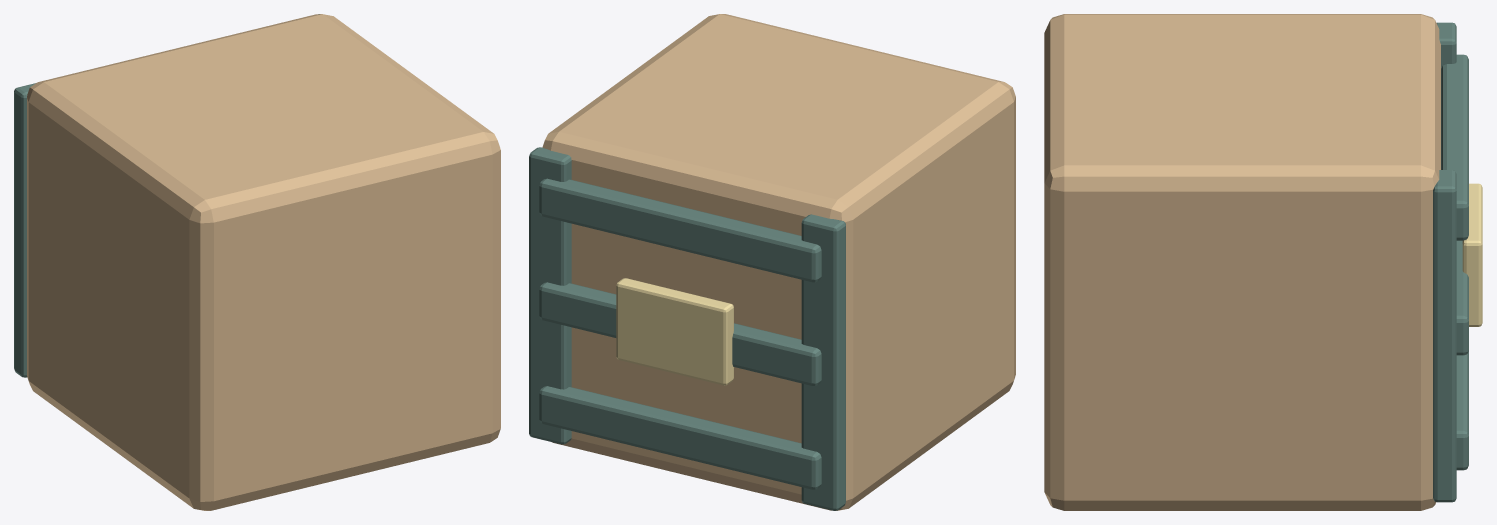
Rendered from feed_crate.glb.
3 renders of one model, left to right at view 1: azimuth 30°, elevation 25°; view 2: azimuth 150°, elevation 25°; view 3: azimuth 270°, elevation 25°, orthographic. The views are drawn at different scales.
Visible parts, largest first — view 1: crate, brace_-0.22; view 2: crate, front_slat_2, front_slat_0, brace_-0.22, feed_label, brace_0.22, front_slat_1; view 3: crate, brace_0.22, front_slat_2, feed_label, front_slat_0, front_slat_1, brace_-0.22.
Part boxes in pixels (<box>): crate: <box>27,14,500,510</box>; brace_-0.22: <box>14,83,35,377</box>; crate: <box>542,14,1015,510</box>; front_slat_2: <box>539,178,821,282</box>; front_slat_0: <box>539,386,821,489</box>; brace_-0.22: <box>801,214,845,510</box>; feed_label: <box>616,278,733,385</box>; brace_0.22: <box>529,147,571,444</box>; front_slat_1: <box>539,282,821,385</box>; crate: <box>1044,14,1440,510</box>; brace_0.22: <box>1433,170,1456,502</box>; front_slat_2: <box>1441,54,1468,240</box>; feed_label: <box>1462,183,1482,326</box>; front_slat_0: <box>1456,351,1468,470</box>; front_slat_1: <box>1456,240,1468,355</box>; brace_-0.22: <box>1436,22,1456,169</box>.
Bounding box in the file's own units: 0.5 × 0.48 × 0.5525.
